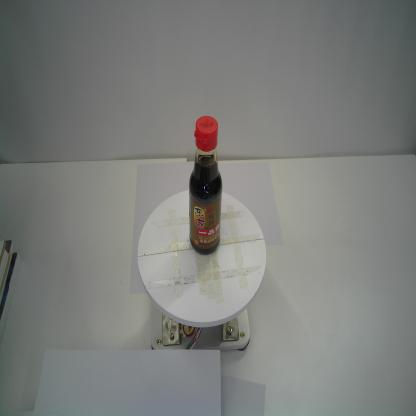Seasoner: (188, 115, 224, 255)
